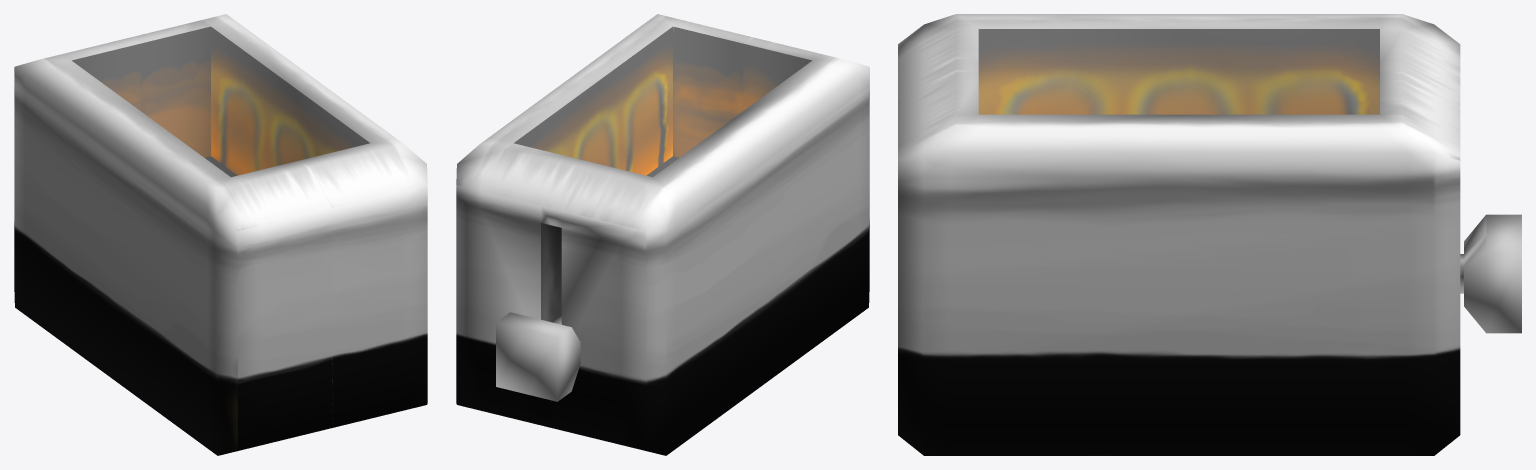
Rendered from better_toaster.fbx.
3 views of the same model, side by side, from view 1: azimuth 30°, elevation 25°; view 2: azimuth 150°, elevation 25°; view 3: azimuth 270°, elevation 25° (orthographic). The views are drawn at different scales.
Parts seen in each view (by area): view 1: toaster; view 2: toaster, switch; view 3: toaster, switch.
Boxes of the visible parts, x1,y1,x2,y2 form: toaster: (14,14,427,455); toaster: (456,14,869,455); switch: (496,312,580,401); toaster: (898,14,1460,455); switch: (1460,214,1521,333).
Size of the model in its own units: 239 by 277 by 490.
